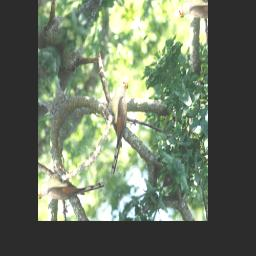Cuckoo: (81, 76, 156, 178)
